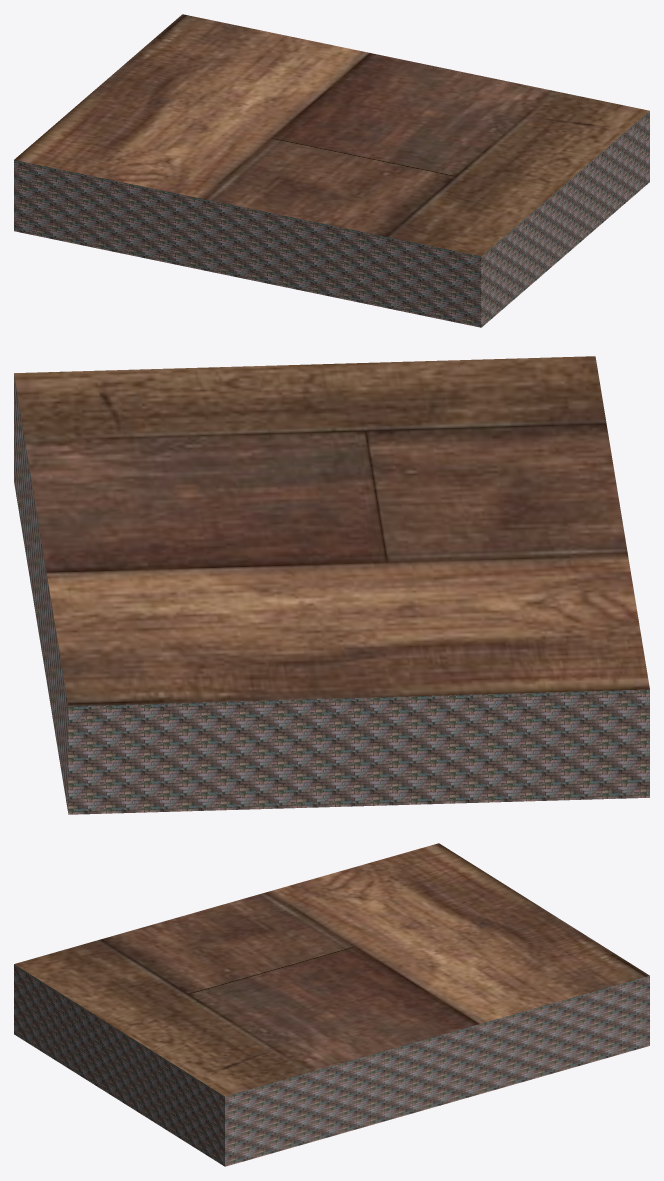
Rendered from ball.glb.
The picture shows the model from 3 angles, top to bottom: view 1: azimuth 30°, elevation 25°; view 2: azimuth 150°, elevation 25°; view 3: azimuth 270°, elevation 25°; orthographic projection. The views are drawn at different scales.
Visible parts, largest first — view 1: hall; view 2: hall; view 3: hall.
Boxes of the visible parts, x1,y1,x2,y2 form: hall: (14, 14, 649, 327); hall: (14, 356, 649, 814); hall: (14, 843, 649, 1166).
Size of the model in its own units: 35.31 by 4.56 by 37.46.
2 materials, 2 textured.
